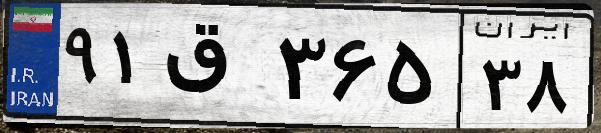1: (110, 28, 158, 98)
3: (270, 28, 330, 110), (475, 38, 525, 113)
5: (385, 28, 445, 110)
6: (330, 28, 385, 110)
8: (525, 38, 570, 115)
9: (57, 26, 110, 100)
ق: (158, 20, 270, 120)
